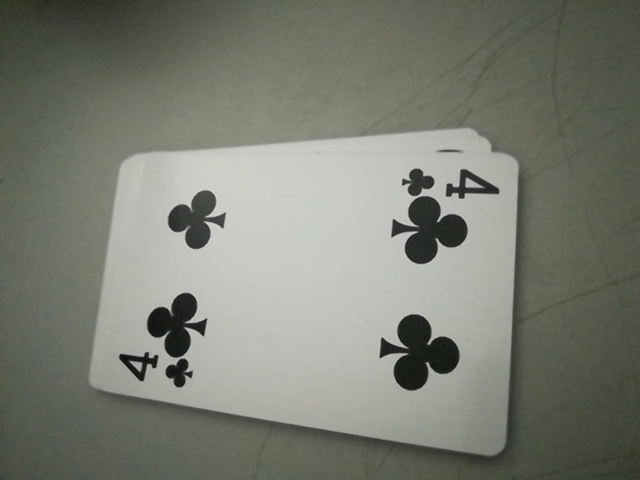mh 4: (399, 158, 504, 203), (111, 347, 201, 397)
